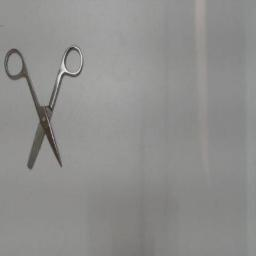Dressing Scissors: (1, 42, 89, 180)
